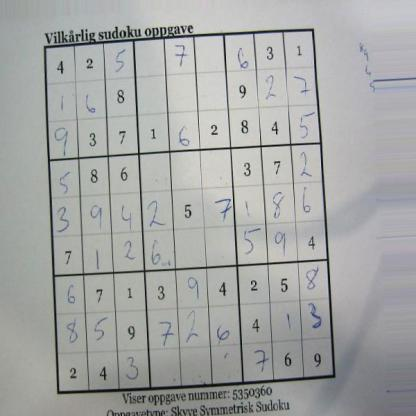sudoku: (42, 26, 339, 397)
